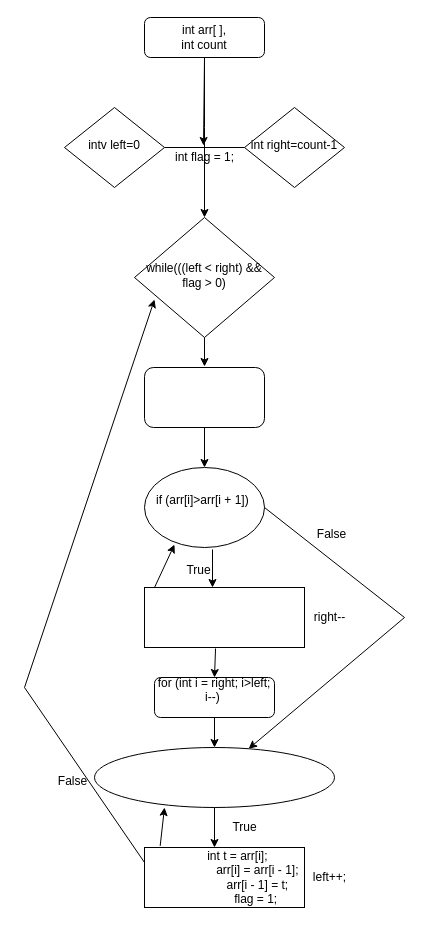
This 430x925 diagram has some shape labels left out. The shapes that lost their labels are listed below. From the top down, each one's centre as x and y in pixels, then its label:
At (x=204, y=397): "flag = 0; for (int i = left; i<right; i++)".
At (x=224, y=617): "int t = arr[i]; arr[i] = arr[i + 1]; arr[i + 1] = t; flag = 1;".
At (x=214, y=777): "if (arr[i - 1]>arr[i])".
